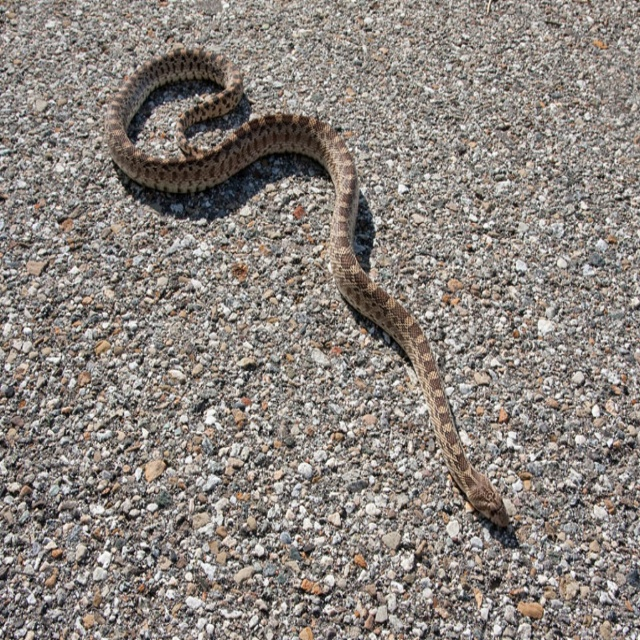Snake: (112, 55, 510, 553)
